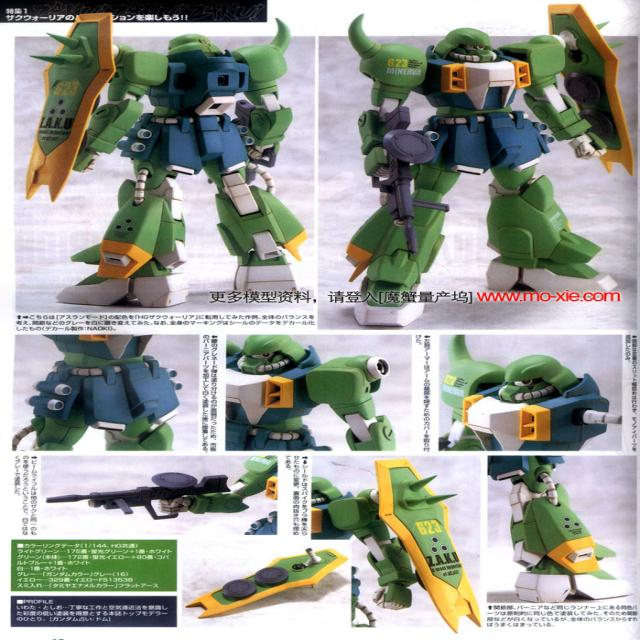Toy: (341, 12, 631, 330), (22, 12, 293, 304), (303, 457, 480, 629), (426, 332, 622, 454), (484, 450, 634, 608), (45, 453, 297, 539), (15, 332, 186, 454), (222, 339, 406, 449), (188, 546, 350, 624)
